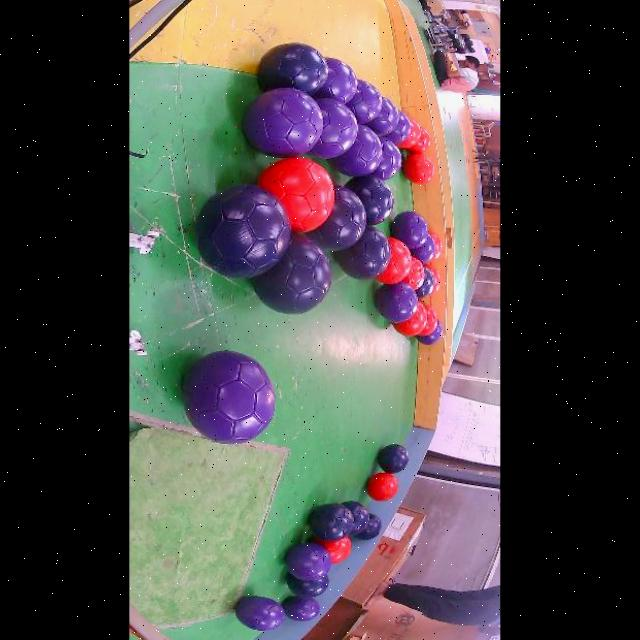B: (196, 184, 290, 277), (250, 233, 330, 315), (306, 186, 365, 251), (257, 42, 326, 95), (333, 226, 389, 280), (344, 175, 392, 226), (307, 503, 353, 542), (285, 573, 328, 597), (340, 500, 368, 535), (377, 444, 408, 473), (353, 513, 380, 540), (415, 267, 433, 298)
P: (180, 351, 273, 445), (241, 87, 322, 158), (307, 98, 356, 158), (328, 125, 382, 177), (313, 58, 356, 104), (233, 596, 284, 631), (374, 281, 417, 322), (284, 543, 330, 580), (344, 80, 380, 124), (389, 211, 427, 249), (362, 97, 397, 137), (370, 137, 401, 180), (281, 596, 318, 622), (383, 112, 410, 144), (409, 235, 435, 264), (415, 321, 441, 346)
R: (257, 157, 333, 233), (375, 237, 410, 284), (391, 302, 426, 337), (309, 537, 349, 564), (401, 153, 433, 184), (365, 472, 397, 502), (395, 117, 419, 148), (401, 257, 423, 290), (418, 303, 437, 337), (406, 127, 429, 153), (424, 264, 440, 295), (427, 231, 441, 262)
